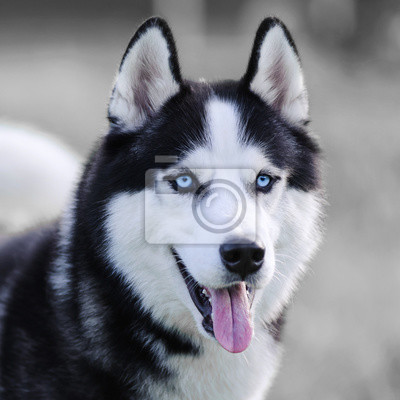husky: (76, 14, 340, 357)
